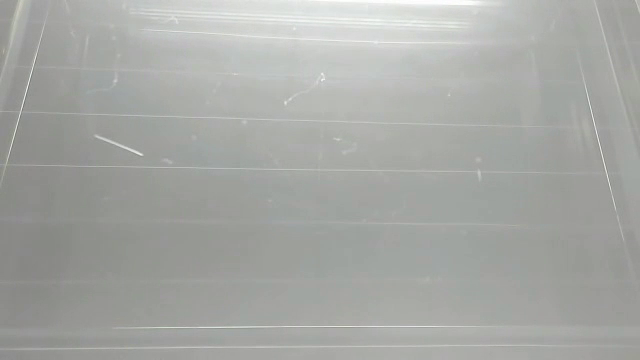alpha: (91, 129, 146, 159), (474, 155, 488, 185)
